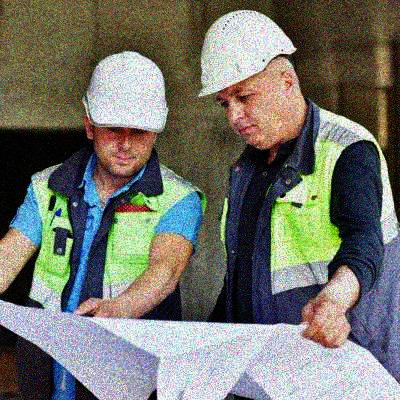helmet: (198, 8, 302, 147), (84, 51, 172, 179)
